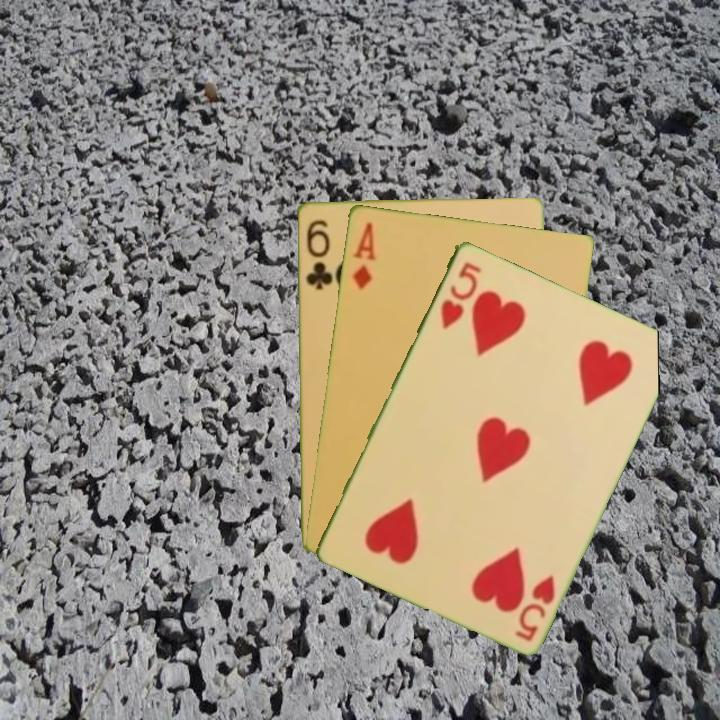5h: (436, 257, 484, 332), (511, 571, 558, 644)
6c: (301, 217, 335, 292)
Ad: (348, 218, 378, 292)
